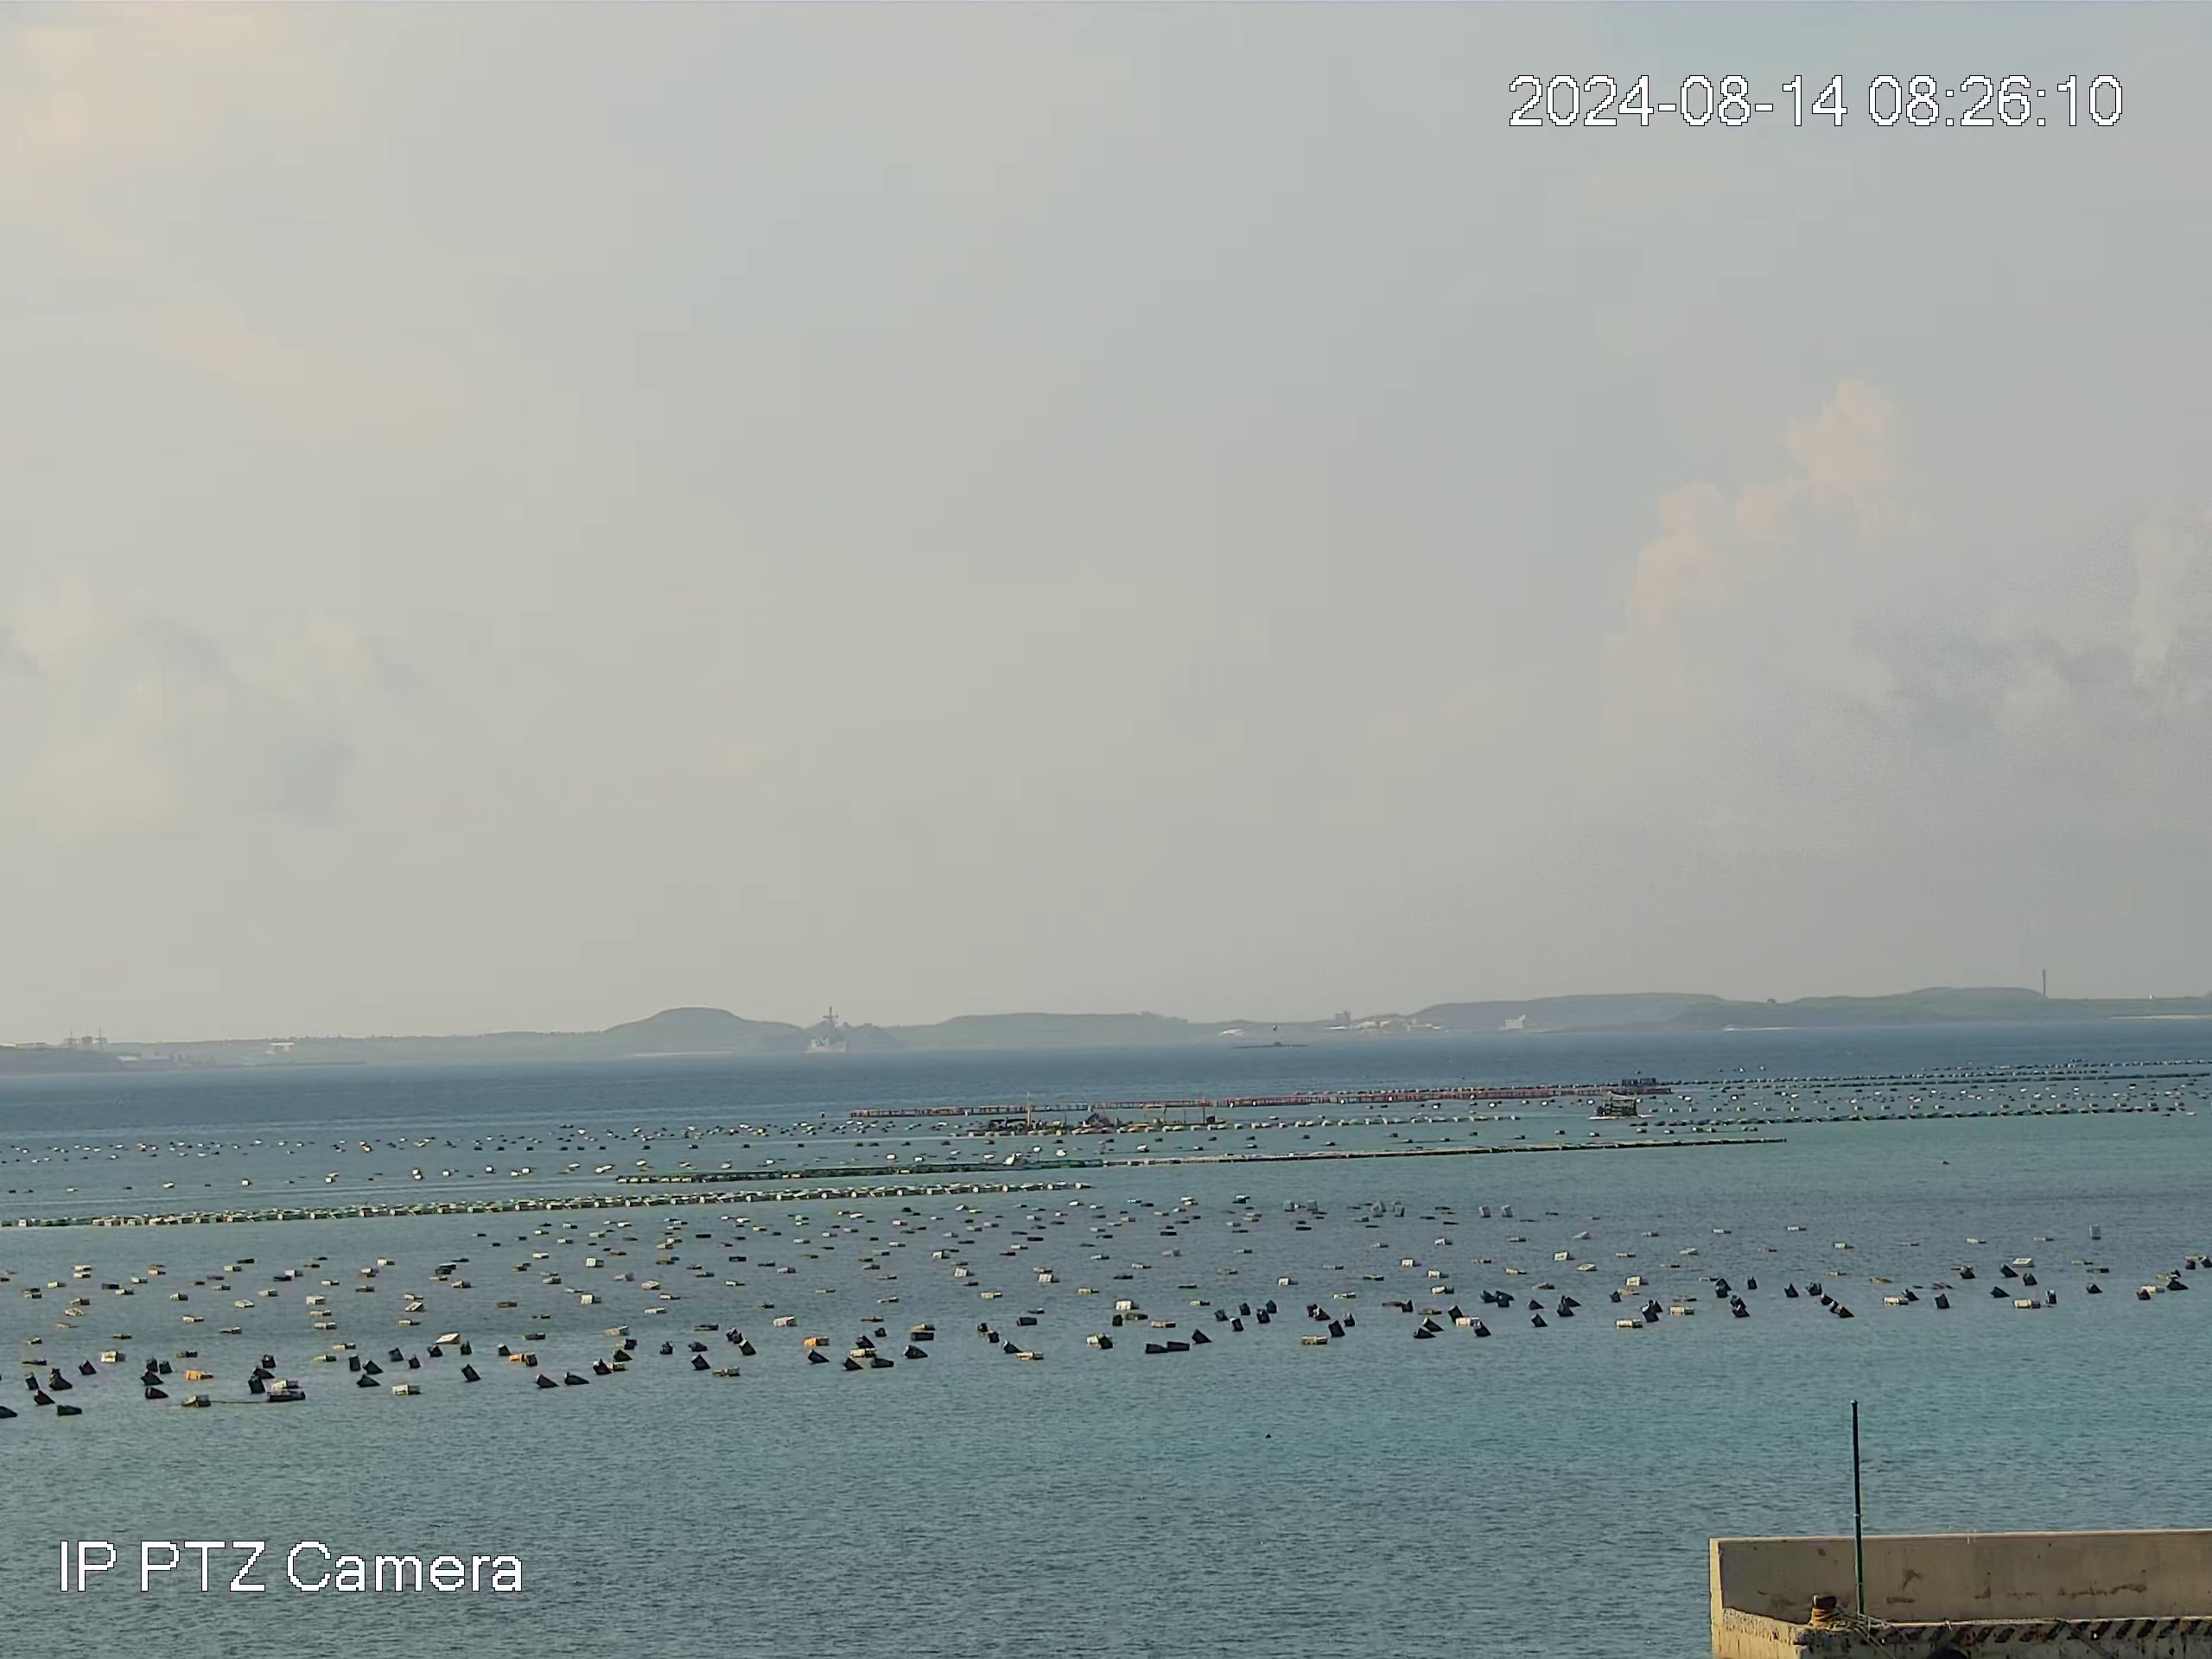boat: (1588, 1094, 1641, 1119)
